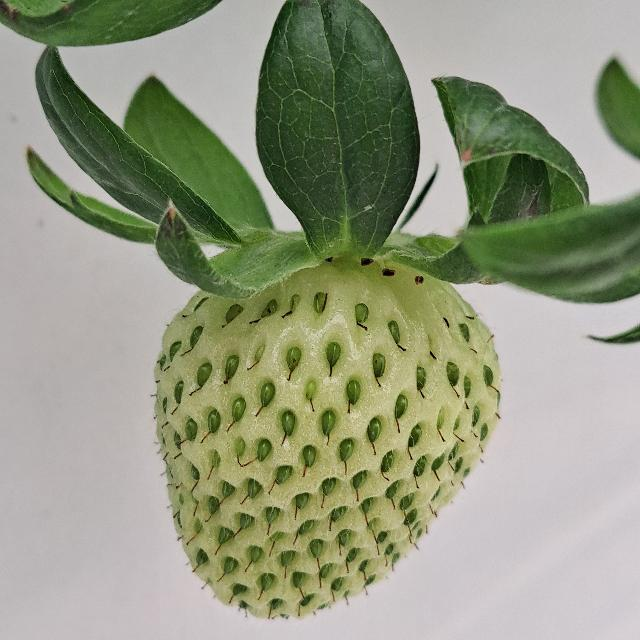Health_25: (154, 257, 501, 619)
